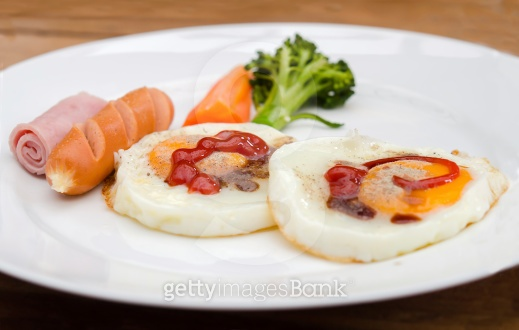fried egg: (272, 130, 508, 266), (97, 132, 319, 235)
